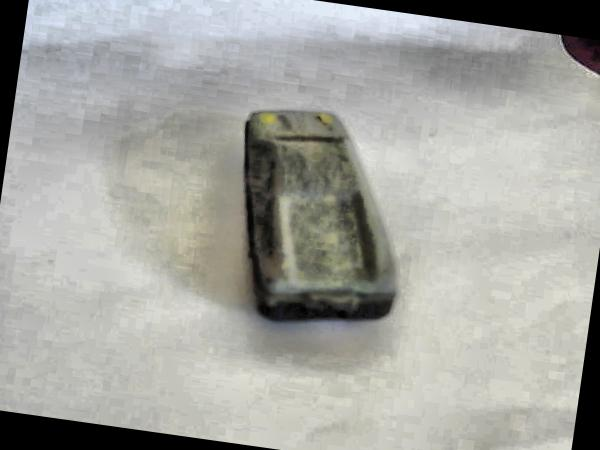normal_car: (212, 95, 422, 338)
